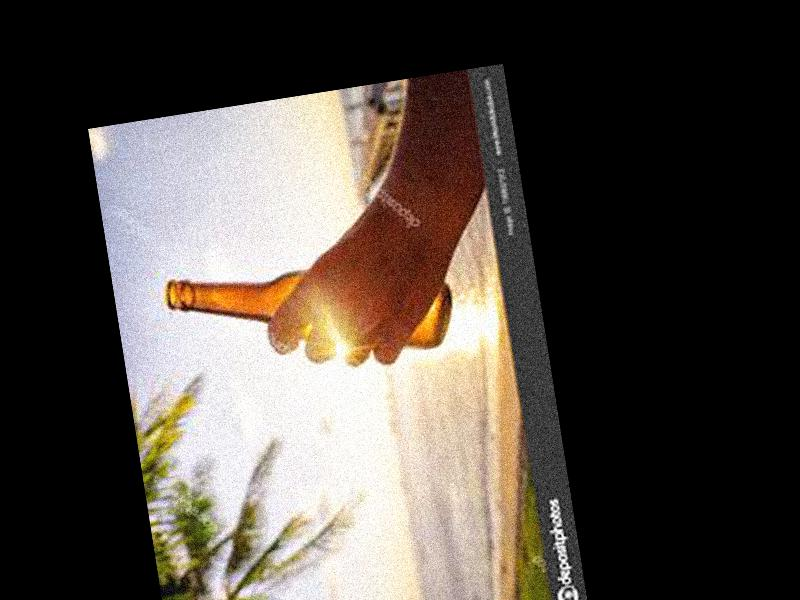Beer: (163, 236, 458, 387)
